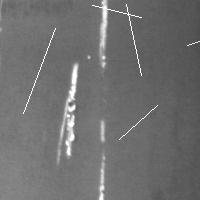scratches: (18, 23, 60, 118), (52, 61, 80, 158), (114, 100, 162, 144), (121, 0, 146, 80), (87, 0, 146, 22), (93, 119, 109, 199), (94, 1, 111, 70), (182, 21, 200, 50)
